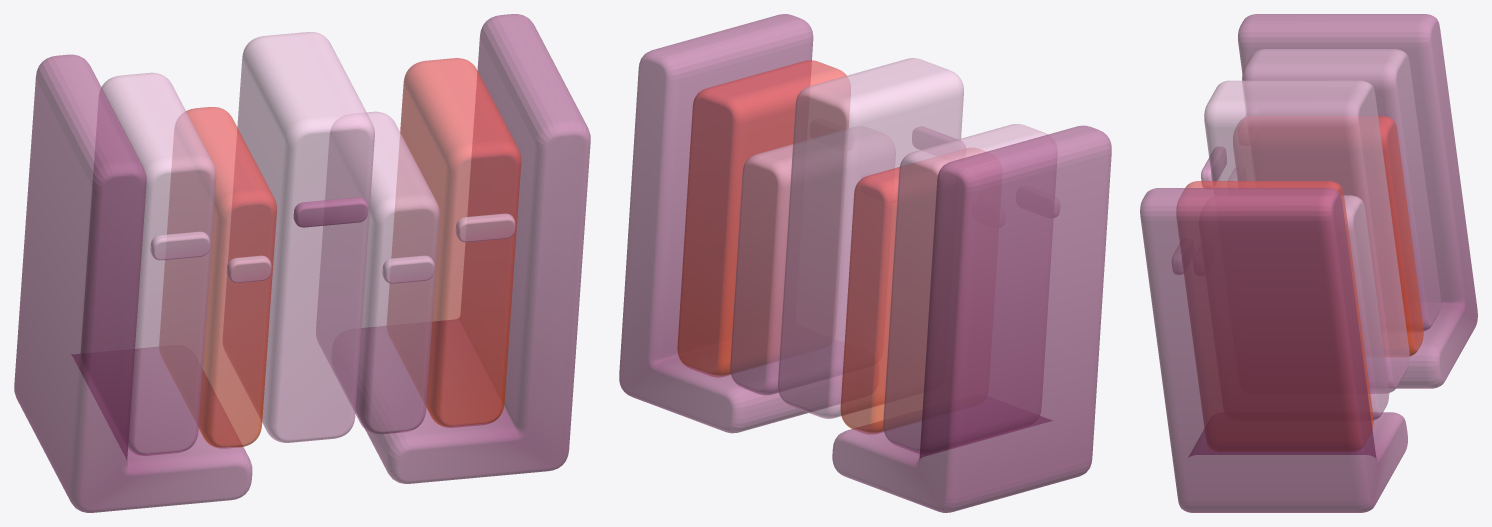
Rendered from bookends.glb.
3 views of the same model, side by side, from view 1: azimuth 30°, elevation 25°; view 2: azimuth 150°, elevation 25°; view 3: azimuth 270°, elevation 25° (orthographic). The views are drawn at different scales.
Parts seen in each view (by area): view 1: bookend_right, bookend_left, book_3, book_1, book_5, book_4, book_2, spine_band_3, spine_band_5, spine_band_1, spine_band_4, spine_band_2; view 2: bookend_left, bookend_right, book_1, book_3, book_5, book_4, book_2, spine_band_3; view 3: bookend_right, book_5, bookend_left, book_3, book_1, book_2, book_4, spine_band_3.
Boxes of the visible parts, <box> form: bookend_right: <box>356,14,590,483</box>; bookend_left: <box>14,54,252,512</box>; book_3: <box>223,32,374,442</box>; book_1: <box>81,72,216,455</box>; book_5: <box>387,58,521,427</box>; book_4: <box>316,111,439,434</box>; book_2: <box>159,107,276,447</box>; spine_band_3: <box>293,197,368,227</box>; spine_band_5: <box>455,213,515,242</box>; spine_band_1: <box>150,231,210,260</box>; spine_band_4: <box>382,255,434,283</box>; spine_band_2: <box>226,255,271,283</box>; bookend_left: <box>832,125,1111,512</box>; bookend_right: <box>619,14,842,433</box>; book_1: <box>883,124,1056,453</box>; book_3: <box>778,58,963,418</box>; book_5: <box>677,60,850,376</box>; book_4: <box>730,126,895,395</box>; book_2: <box>840,148,985,433</box>; spine_band_3: <box>912,127,965,149</box>; bookend_right: <box>1140,188,1407,512</box>; book_5: <box>1177,181,1373,450</box>; bookend_left: <box>1238,14,1477,388</box>; book_3: <box>1204,80,1409,393</box>; book_1: <box>1242,49,1440,330</box>; book_2: <box>1233,116,1423,356</box>; book_4: <box>1341,195,1389,419</box>; spine_band_3: <box>1201,147,1226,187</box>.
Bounding box in the file's own units: 0.7146 × 0.5773 × 0.5045.
